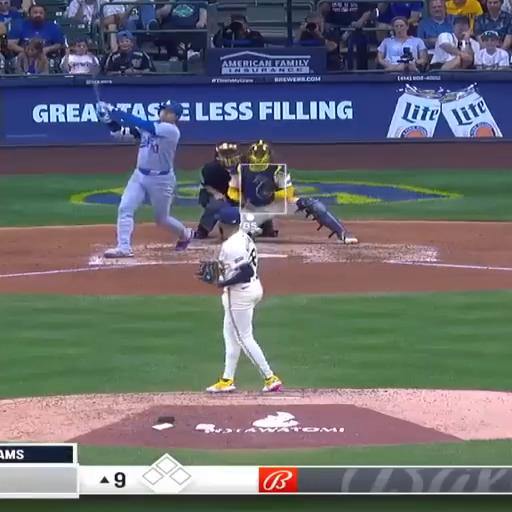bat: (92, 80, 101, 102)
